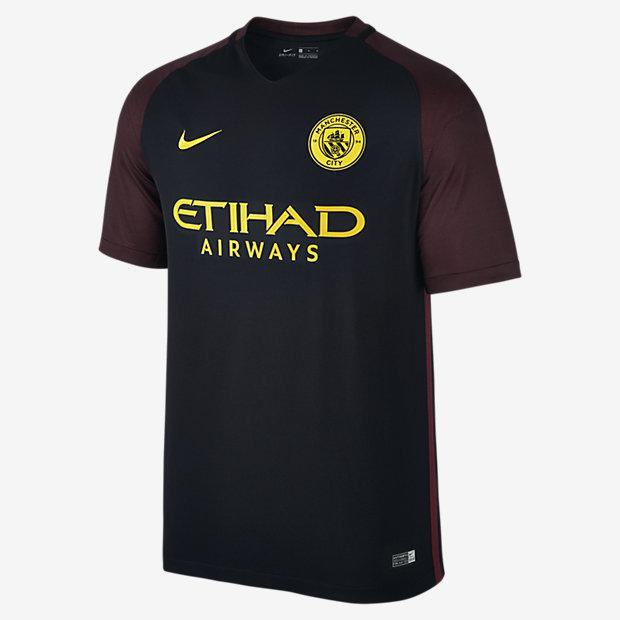teeshirt: (88, 10, 519, 620)
